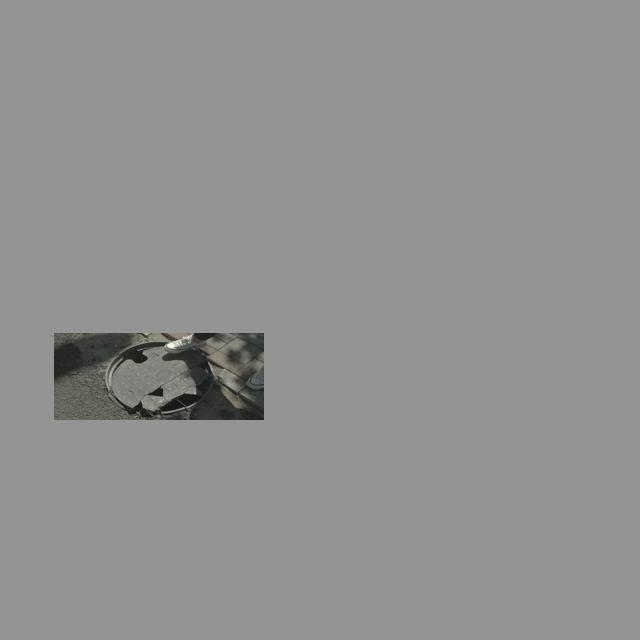broke: (104, 340, 214, 414)
